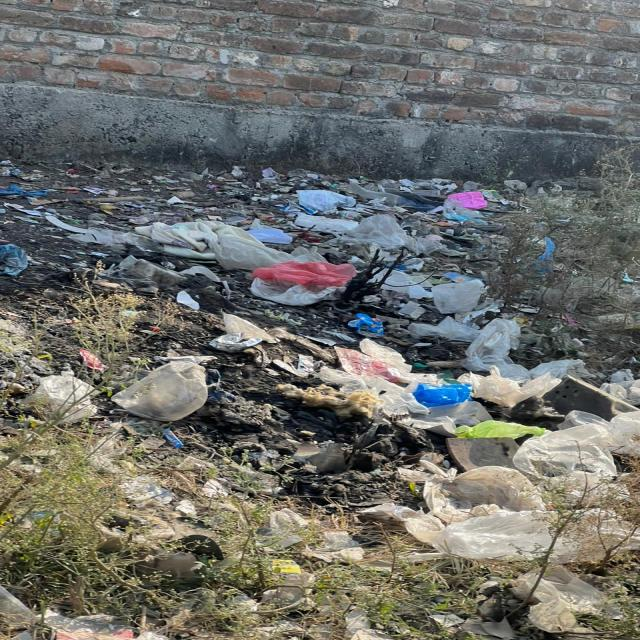garbage: (55, 163, 640, 634)
